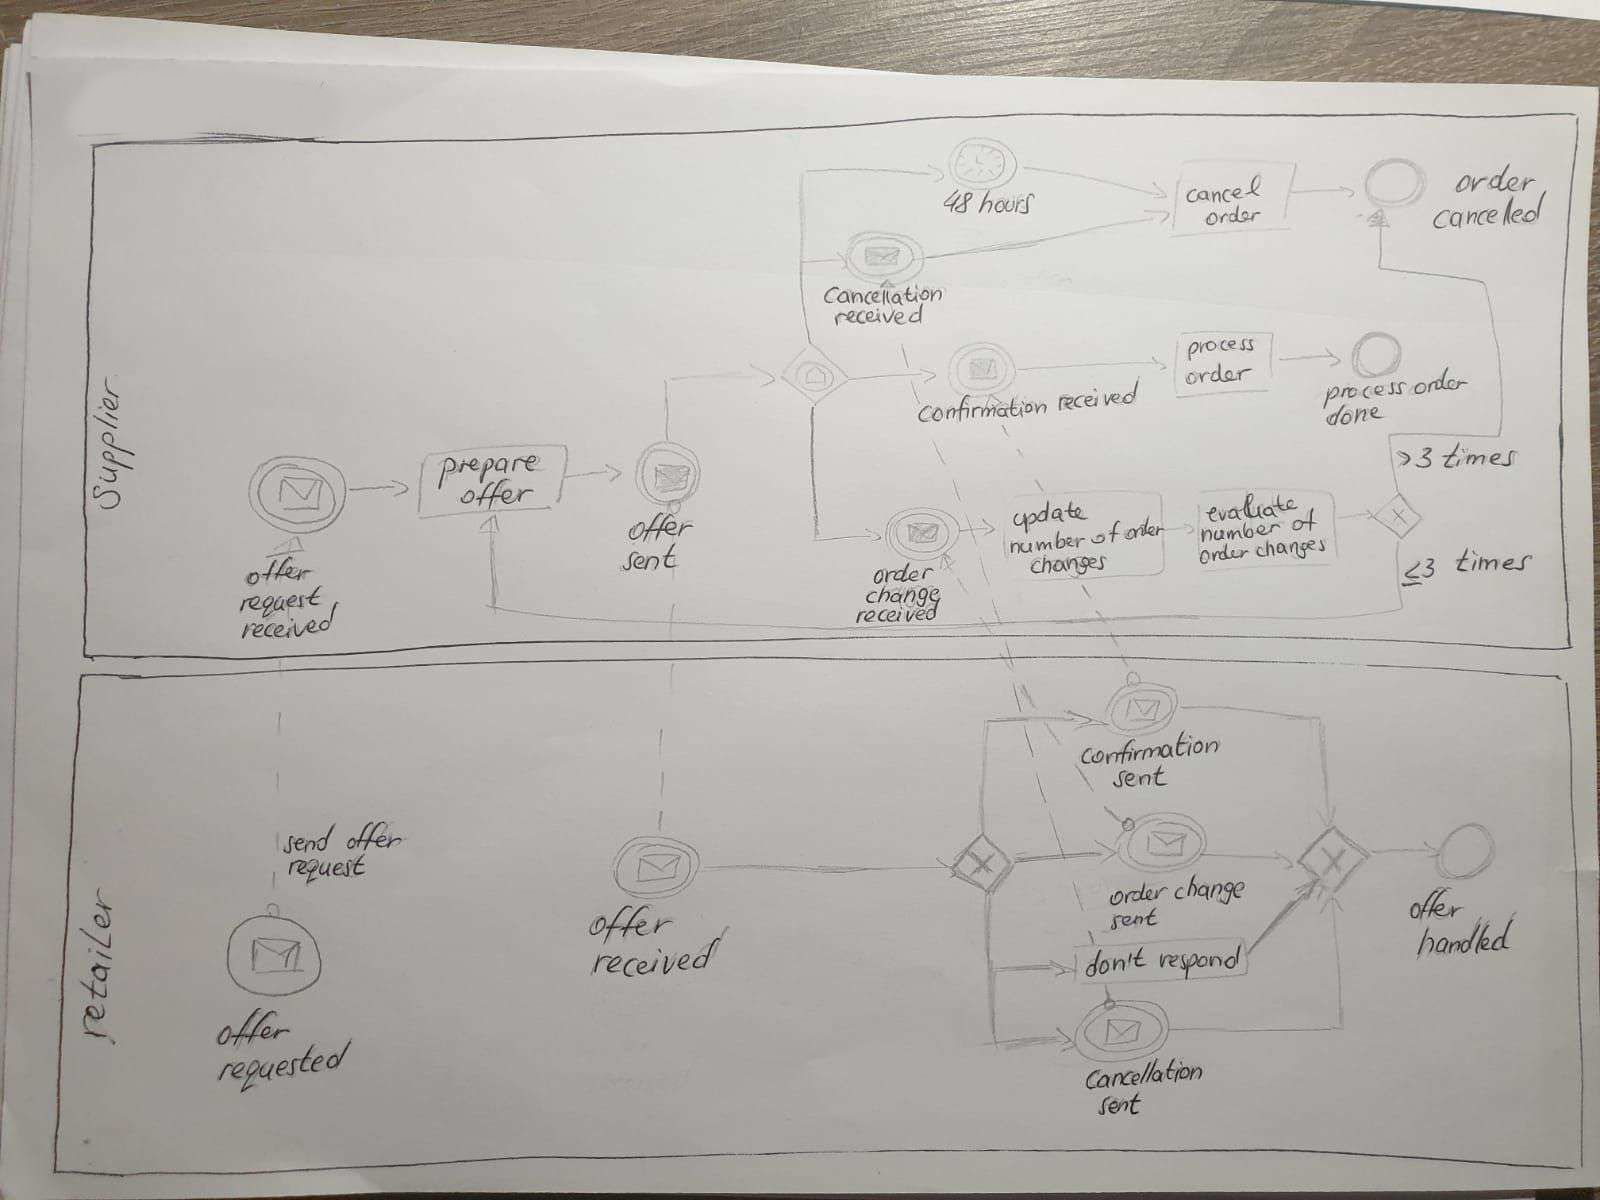48: (944, 187, 976, 217)
<=3: (1400, 555, 1435, 591)
>3: (1395, 442, 1436, 474)
Cancellation: (1081, 1058, 1201, 1095), (825, 284, 944, 308)
Order: (1197, 542, 1252, 568)
Supplier: (88, 379, 130, 509)
cancel: (1183, 176, 1264, 208)
cancelled: (1432, 199, 1543, 234)
change: (1170, 874, 1249, 908), (867, 587, 941, 606)
changes: (1027, 551, 1109, 581), (1254, 534, 1327, 562)
confirmation: (1076, 730, 1223, 771), (916, 389, 1047, 429)
don't: (1083, 947, 1148, 983)
done: (1327, 401, 1393, 430)
evaluate: (1202, 489, 1304, 528)
handled: (1419, 918, 1518, 962)
hours: (979, 189, 1041, 219)
number: (1005, 526, 1090, 560), (1199, 516, 1290, 547)
of: (1090, 522, 1120, 550), (1291, 509, 1318, 536)
offer: (210, 1008, 291, 1051), (588, 905, 675, 943), (459, 476, 538, 511), (244, 555, 312, 590), (1406, 886, 1464, 924), (341, 821, 404, 855), (629, 513, 694, 545)
order: (1453, 163, 1538, 199), (1107, 877, 1167, 911), (1184, 362, 1255, 389), (1412, 366, 1466, 400), (873, 560, 932, 585), (1204, 205, 1264, 229), (1121, 516, 1167, 546)
prepare: (438, 451, 542, 488)
process: (1327, 376, 1411, 407), (1186, 337, 1255, 361)
received: (591, 937, 731, 981), (1049, 379, 1144, 418), (241, 614, 333, 643), (833, 305, 926, 329), (854, 606, 939, 625)
request: (236, 586, 333, 619), (282, 855, 369, 889)
requested: (214, 1039, 354, 1092)
respond: (1153, 944, 1243, 978)
retailer: (74, 890, 123, 1042)
send: (280, 826, 338, 857)
sent: (620, 545, 679, 575), (1107, 908, 1160, 937), (1111, 765, 1169, 792), (1095, 1092, 1141, 1118)
times: (1453, 548, 1534, 582), (1441, 442, 1518, 473)
update: (1007, 499, 1090, 534)
